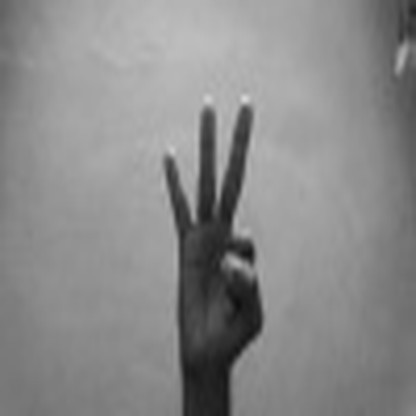f: (136, 88, 286, 372)
